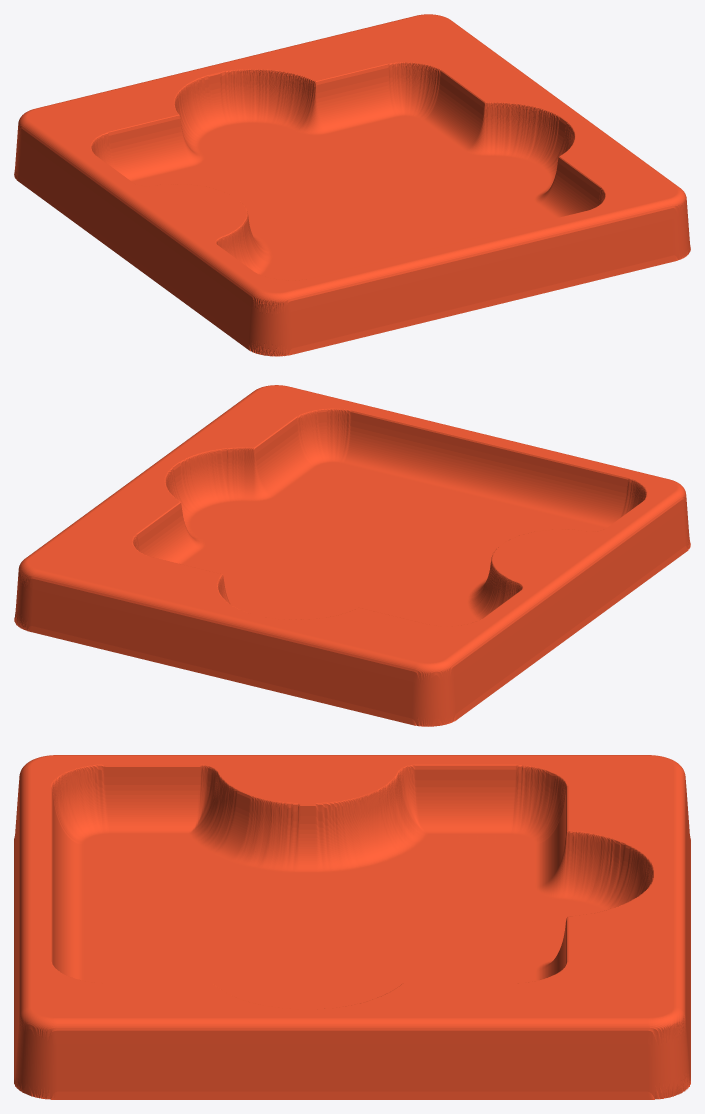
Rendered from mold.glb.
The picture shows the model from 3 angles, top to bottom: view 1: azimuth 30°, elevation 25°; view 2: azimuth 150°, elevation 25°; view 3: azimuth 270°, elevation 25°; orthographic projection. The views are drawn at different scales.
Visible parts, largest first — view 1: geometry_0; view 2: geometry_0; view 3: geometry_0.
Part boxes in pixels (x1,y1,x2,y2): geometry_0: [14, 14, 690, 356]; geometry_0: [14, 385, 690, 726]; geometry_0: [14, 755, 690, 1099].
Bounding box in the file's own units: 0.1385 × 0.0175 × 0.1435.
